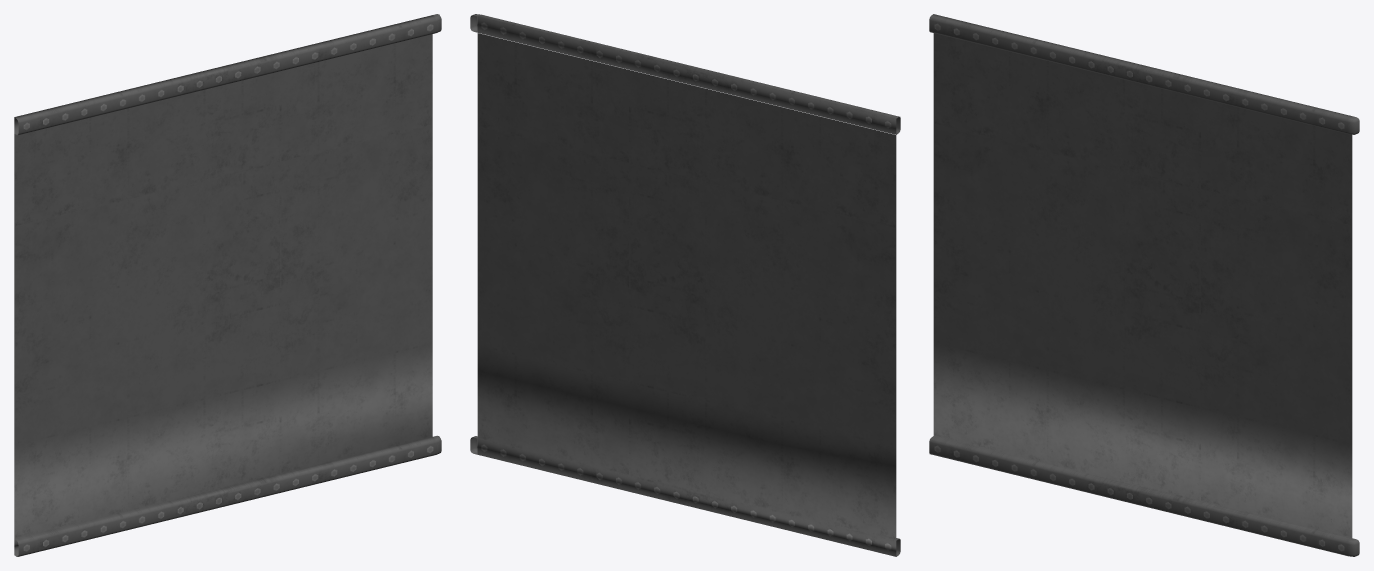
Rendered from IndustrialWallLeft.fbx.
3 renders of one model, left to right at view 1: azimuth 30°, elevation 25°; view 2: azimuth 150°, elevation 25°; view 3: azimuth 330°, elevation 25°, orthographic.
Visible parts, largest first — view 1: EngineWall.002; view 2: EngineWall.002; view 3: EngineWall.002.
Part boxes in pixels (x1,y1,x2,y2): EngineWall.002: [14, 14, 441, 556]; EngineWall.002: [470, 14, 900, 556]; EngineWall.002: [929, 14, 1359, 556].
Size of the model in its own units: 509 by 500 by 8.85.
